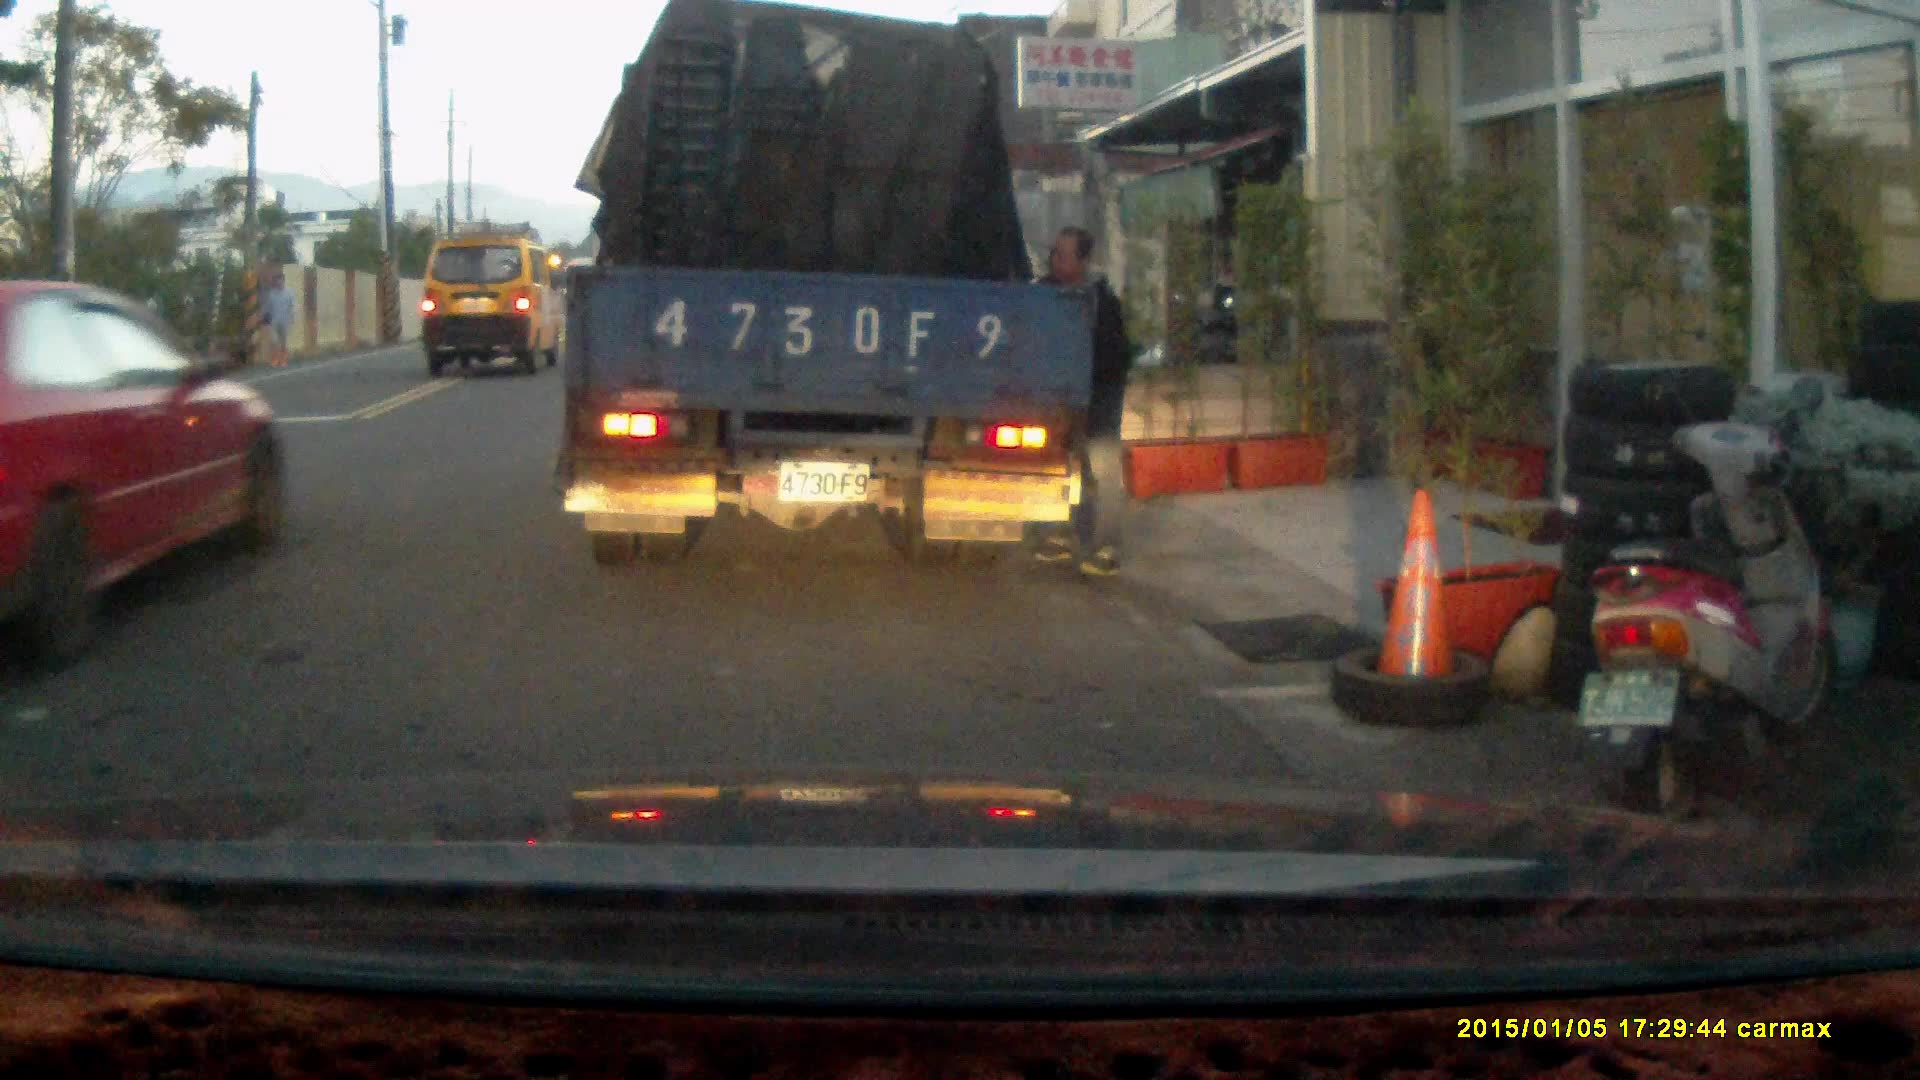pedestrian: (1023, 223, 1133, 575), (256, 275, 296, 369)
vehicle: (565, 23, 1096, 569), (1, 281, 288, 648), (419, 235, 566, 372)
